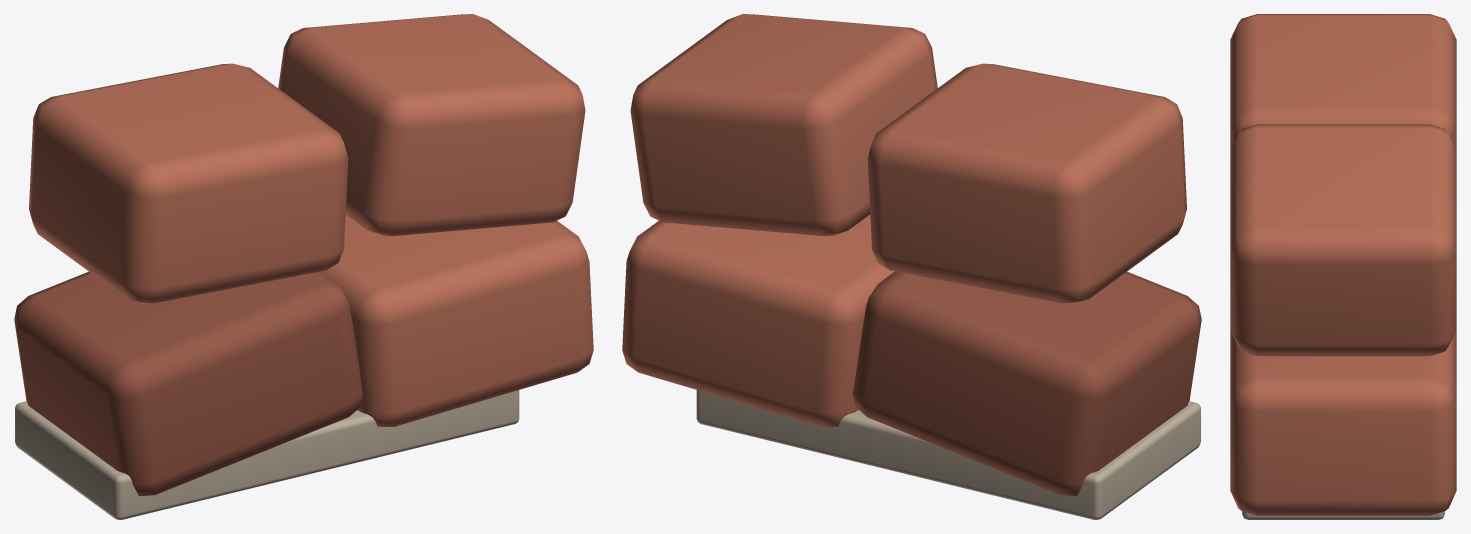
File: brick_rubble.glb
3 views of the same model, side by side, from view 1: azimuth 30°, elevation 25°; view 2: azimuth 150°, elevation 25°; view 3: azimuth 270°, elevation 25° (orthographic). The views are drawn at different scales.
Visible parts, largest first — view 1: Broken brick.002, Broken brick, Broken brick.003, Broken brick.001, Attached mortar; view 2: Broken brick.002, Broken brick, Broken brick.003, Broken brick.001, Attached mortar; view 3: Broken brick.003, Broken brick.001, Broken brick.002, Attached mortar.
Part boxes in pixels (<box>): Broken brick.002: <box>29,63,348,303</box>; Broken brick: <box>14,271,362,496</box>; Broken brick.003: <box>278,14,585,236</box>; Broken brick.001: <box>321,214,593,426</box>; Attached mortar: <box>15,390,519,519</box>; Broken brick.002: <box>867,63,1186,303</box>; Broken brick: <box>853,271,1201,496</box>; Broken brick.003: <box>630,14,937,236</box>; Broken brick.001: <box>622,214,894,426</box>; Attached mortar: <box>696,390,1200,519</box>; Broken brick.003: <box>1230,124,1456,356</box>; Broken brick.001: <box>1230,330,1456,515</box>; Broken brick.002: <box>1230,14,1456,149</box>; Attached mortar: <box>1242,511,1444,519</box>.
Bounding box in the file's own units: 0.5865 × 0.4087 × 0.245.
